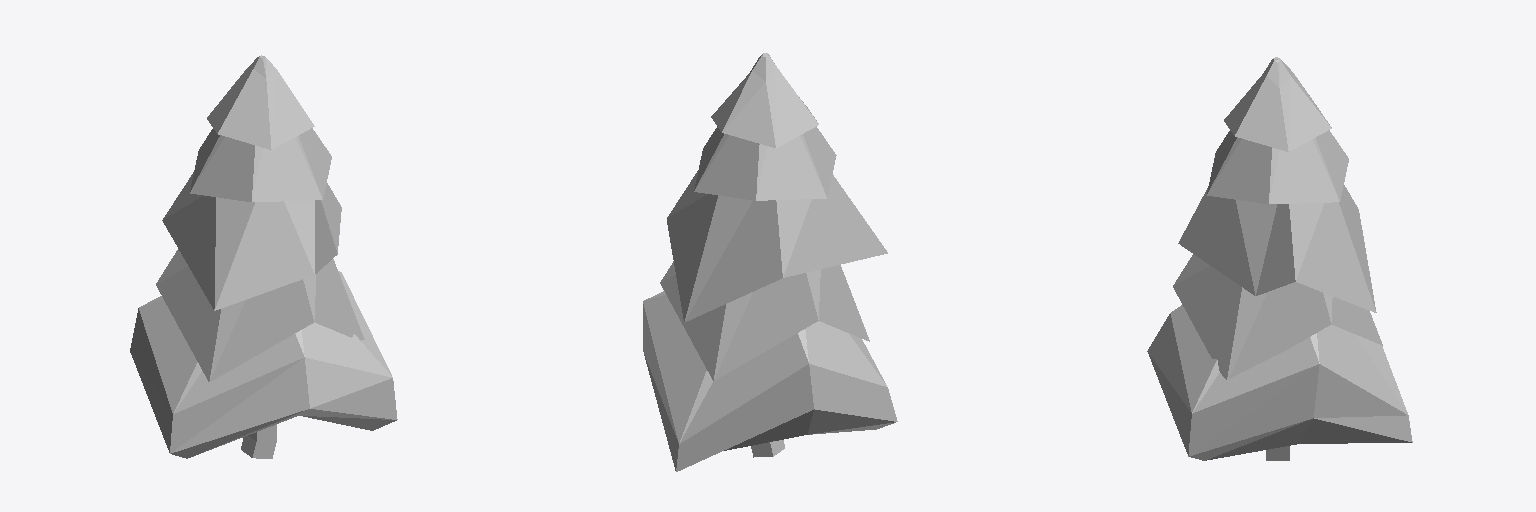
The model's file is Tree2.obj.
3 views of the same model, side by side, from view 1: azimuth 30°, elevation 25°; view 2: azimuth 150°, elevation 25°; view 3: azimuth 270°, elevation 25° (orthographic).
Visible parts, largest first — view 1: Circle, Circle.002, Circle.001, Circle.003, Circle.004, Cube.004; view 2: Circle, Circle.002, Circle.001, Circle.003, Circle.004; view 3: Circle, Circle.002, Circle.001, Circle.003, Circle.004.
Part boxes in pixels (x1,y1,x2,y2): Circle: (130, 271, 397, 458); Circle.002: (162, 172, 341, 310); Circle.001: (156, 249, 364, 382); Circle.003: (190, 128, 331, 201); Circle.004: (207, 55, 314, 149); Cube.004: (241, 424, 276, 458); Circle: (643, 291, 897, 471); Circle.002: (667, 171, 887, 322); Circle.001: (660, 261, 869, 380); Circle.003: (694, 126, 836, 200); Circle.004: (711, 53, 818, 147); Circle: (1147, 305, 1412, 460); Circle.002: (1178, 185, 1376, 312); Circle.001: (1173, 254, 1382, 379); Circle.003: (1207, 130, 1348, 203); Circle.004: (1224, 57, 1331, 151).
Size of the model in its own units: 2.19 by 3.89 by 2.34.